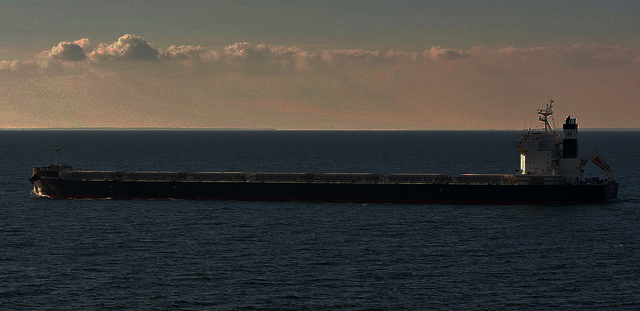bulk carrier: (30, 100, 621, 205)
